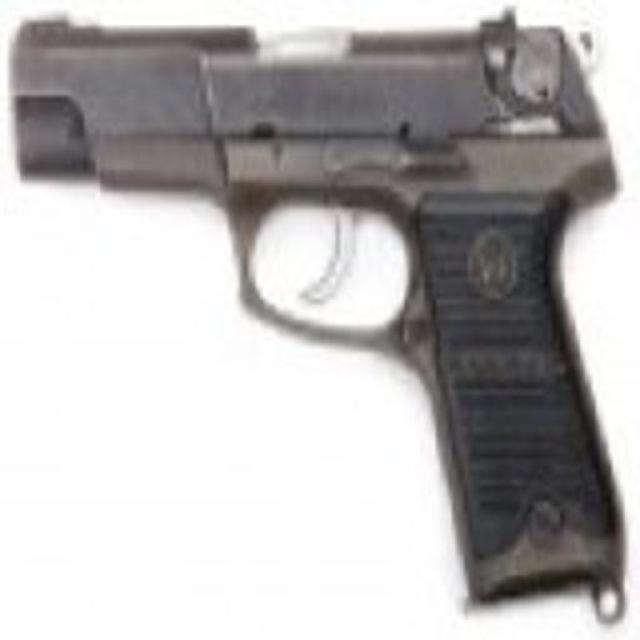pistol: (11, 10, 615, 602)
